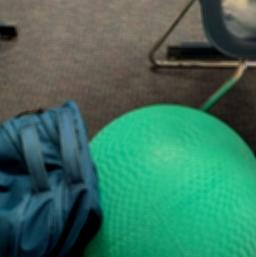algae: (80, 102, 256, 257)
